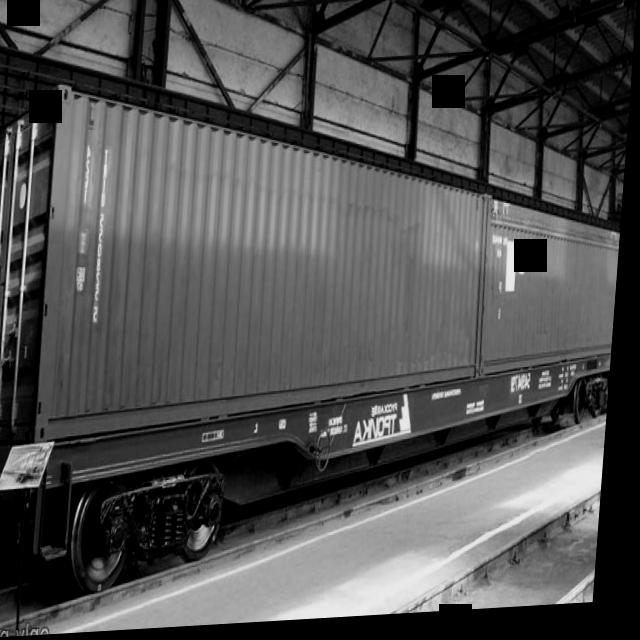container: (0, 53, 501, 456), (480, 184, 627, 379)
flatcar: (0, 353, 618, 609)
